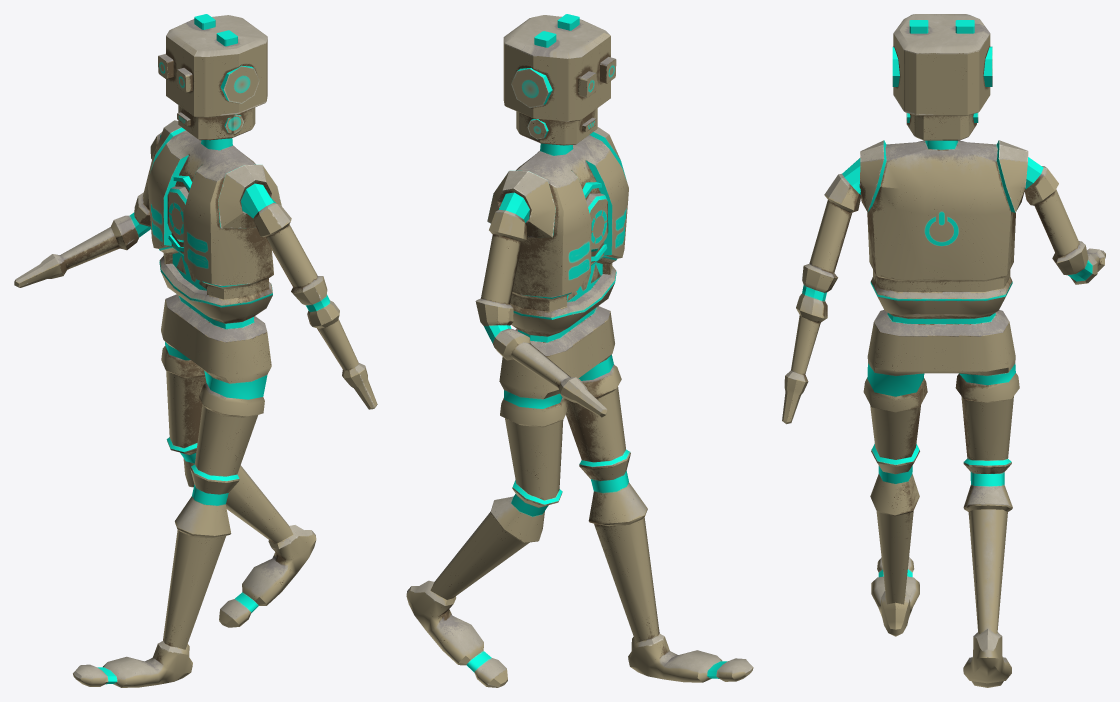
Rendered from SM_Robot3.fbx.
3 views of the same model, side by side, from view 1: azimuth 30°, elevation 25°; view 2: azimuth 150°, elevation 25°; view 3: azimuth 270°, elevation 25° (orthographic). The views are drawn at different scales.
Visible parts, largest first — view 1: SM_Robot3; view 2: SM_Robot3; view 3: SM_Robot3.
Part boxes in pixels (x1,y1,x2,y2): SM_Robot3: [14, 14, 377, 687]; SM_Robot3: [406, 14, 753, 687]; SM_Robot3: [782, 14, 1105, 687].
Bounding box in the file's own units: 64.47 × 61.44 × 135.
